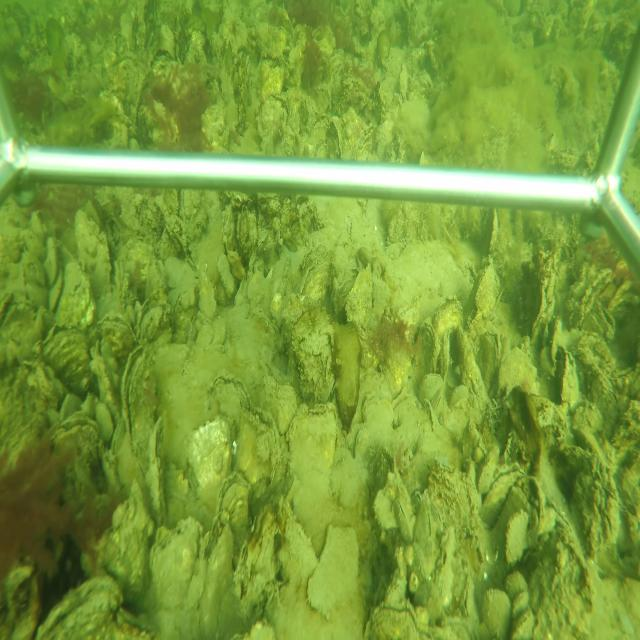Oyster-Closed: (286, 401, 342, 545), (123, 332, 169, 464), (148, 514, 202, 624), (35, 575, 123, 637), (306, 524, 361, 622), (232, 507, 279, 608), (235, 409, 284, 496), (289, 308, 334, 400), (196, 522, 232, 633), (345, 265, 382, 365), (50, 248, 94, 326), (336, 323, 363, 450), (528, 248, 559, 346), (76, 209, 113, 291), (482, 462, 525, 524), (50, 412, 100, 464), (207, 372, 254, 419), (148, 415, 168, 522), (364, 600, 419, 636), (469, 257, 499, 323), (434, 296, 462, 366), (299, 246, 332, 303), (416, 496, 438, 577), (480, 588, 511, 638), (504, 508, 529, 568), (557, 342, 580, 402), (480, 329, 505, 379), (462, 574, 477, 624), (106, 419, 124, 460), (484, 206, 500, 251)
Oyster-Open: (596, 297, 617, 341)
